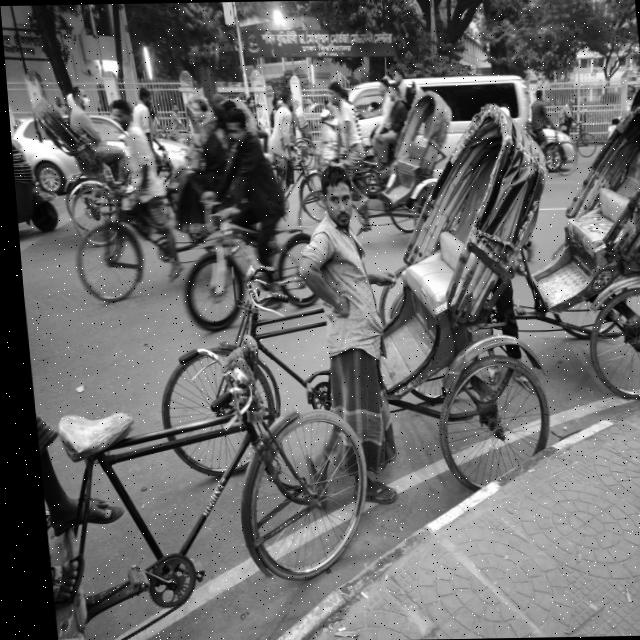rikshaw: (133, 101, 561, 509)
